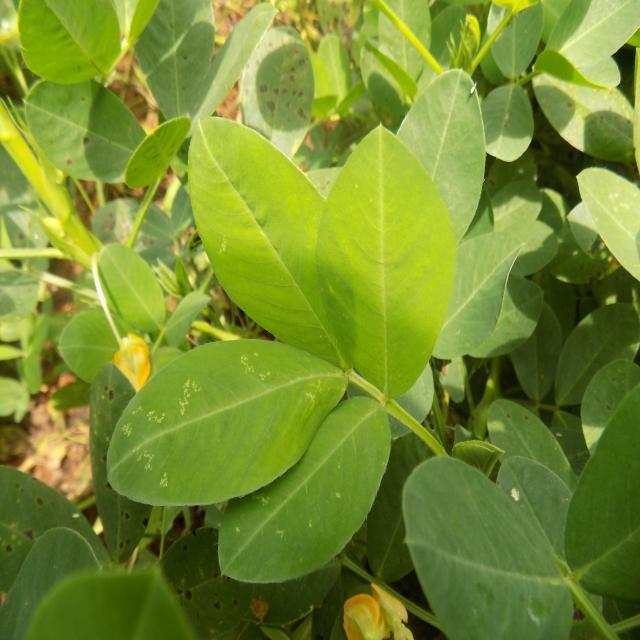Ground nut_healthy: (193, 115, 352, 381), (317, 126, 459, 398), (110, 340, 345, 504), (219, 374, 387, 584), (399, 66, 487, 298)
